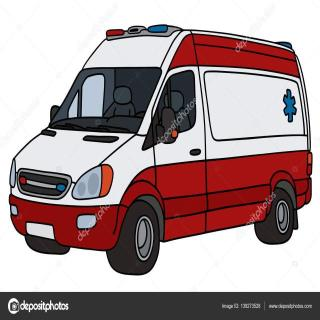Ambulance: (6, 9, 312, 280)
